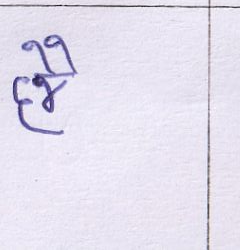u_matra: (15, 98, 65, 137)
